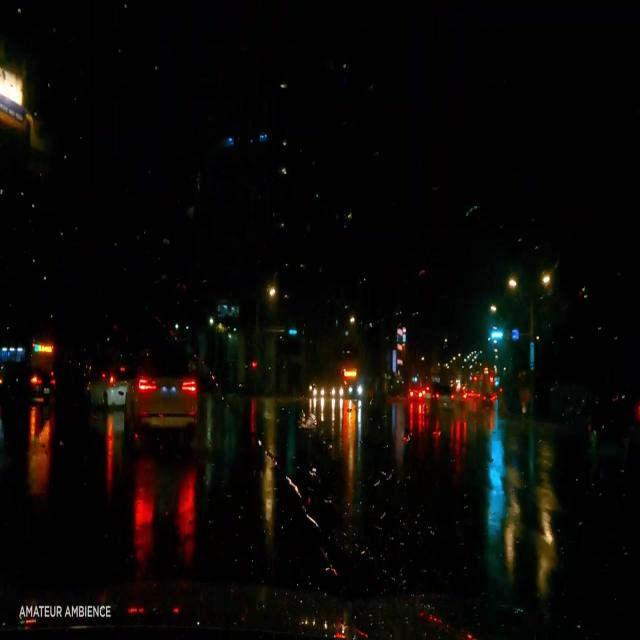Car: (124, 346, 196, 445), (84, 361, 127, 406), (430, 381, 455, 415)
